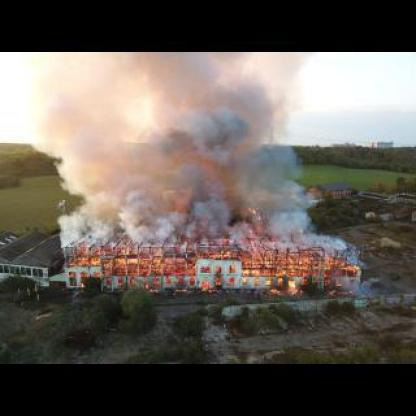fire: (64, 251, 361, 295)
